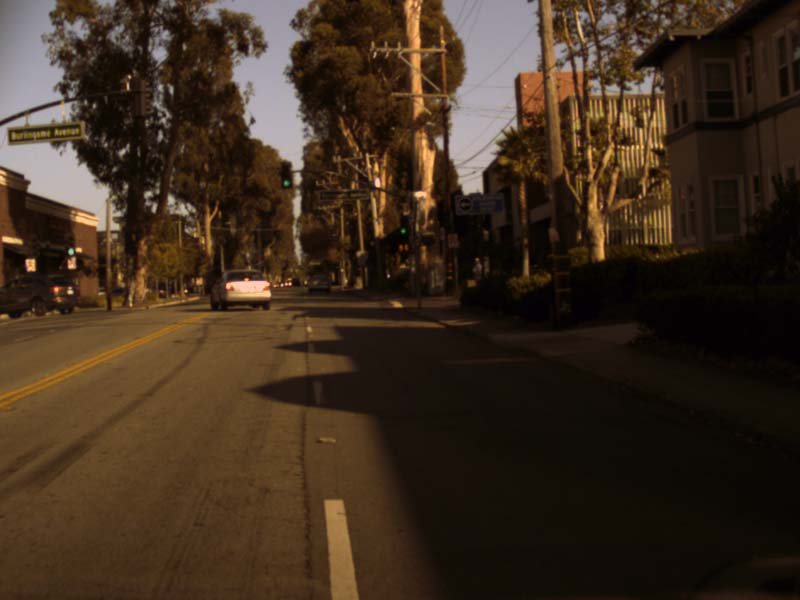Green: (279, 162, 291, 187), (399, 214, 409, 236), (65, 235, 75, 256)
